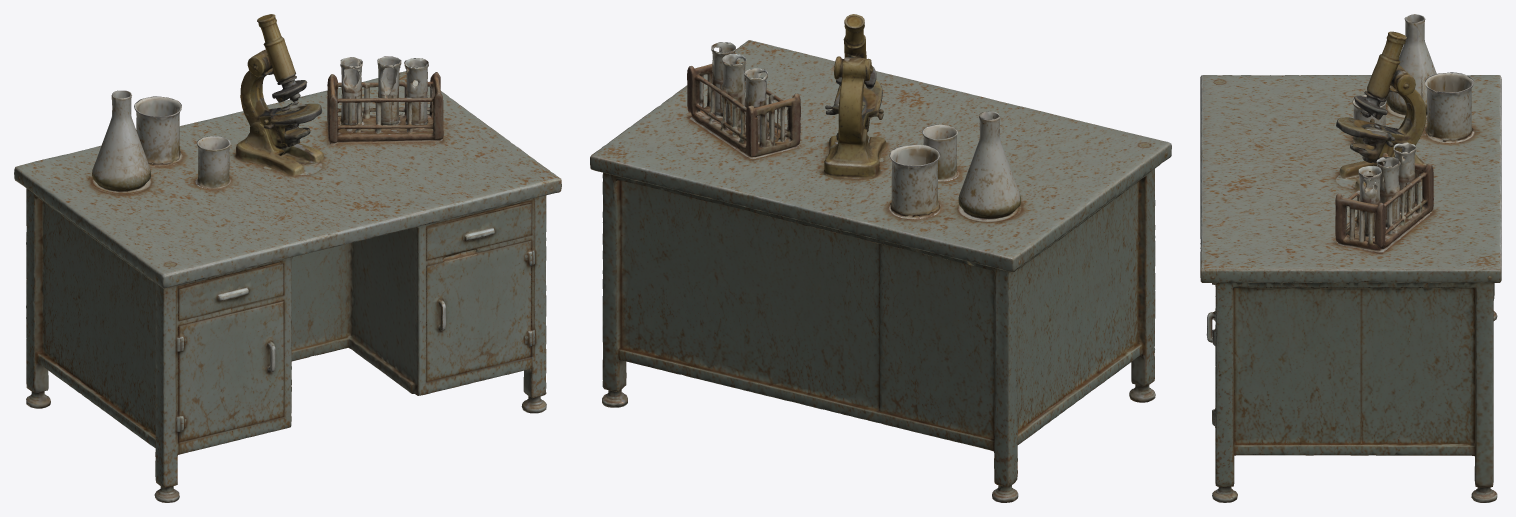
Rendered from LabBench.fbx.
3 views of the same model, side by side, from view 1: azimuth 30°, elevation 25°; view 2: azimuth 150°, elevation 25°; view 3: azimuth 270°, elevation 25° (orthographic). The views are drawn at different scales.
Parts seen in each view (by area): view 1: texture_mapping; view 2: texture_mapping; view 3: texture_mapping.
Part boxes in pixels (x1,y1,x2,y2): texture_mapping: (14, 14, 561, 502); texture_mapping: (590, 14, 1171, 502); texture_mapping: (1200, 14, 1501, 502).
Size of the model in its own units: 0.9989 by 0.6497 by 0.8958.
1 material, 1 textured.
